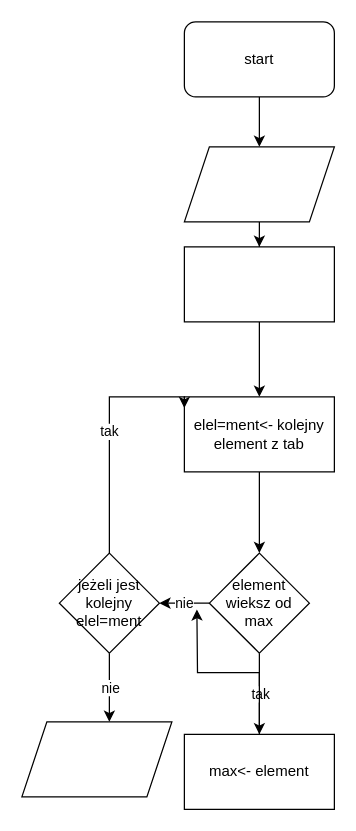
The diagram is 356 pixels wide and 831 high, and some of its shapes have lost their labels. Here are the shapes that lost their labels. From the top down, the box of each, then its label:
(183, 146, 334, 222): wczytaj tab 10 liczb
(183, 246, 334, 322): max<-pierwsza liczba w tablicy
(21, 721, 172, 797): wyświetl max
